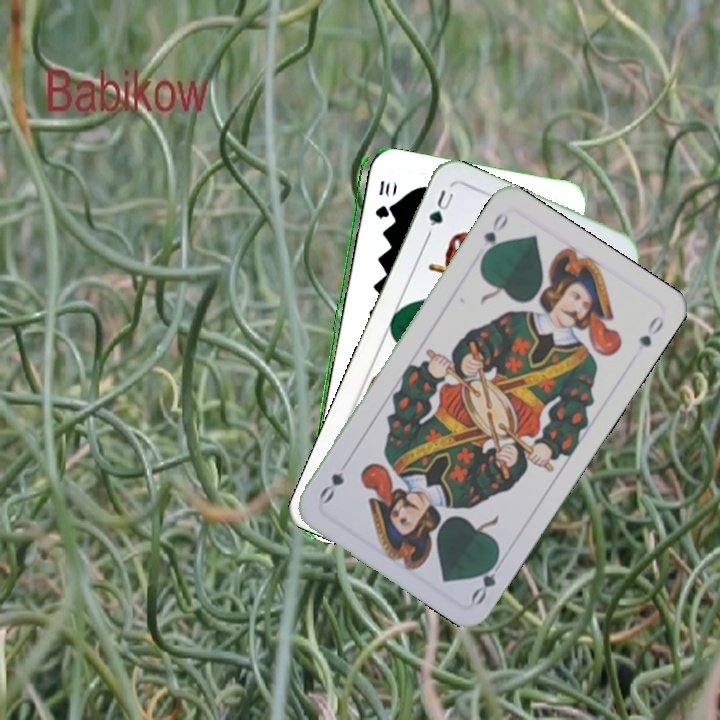G10: (371, 176, 393, 221)
GO: (467, 551, 508, 607), (477, 208, 511, 263)
GU: (423, 185, 457, 239)
